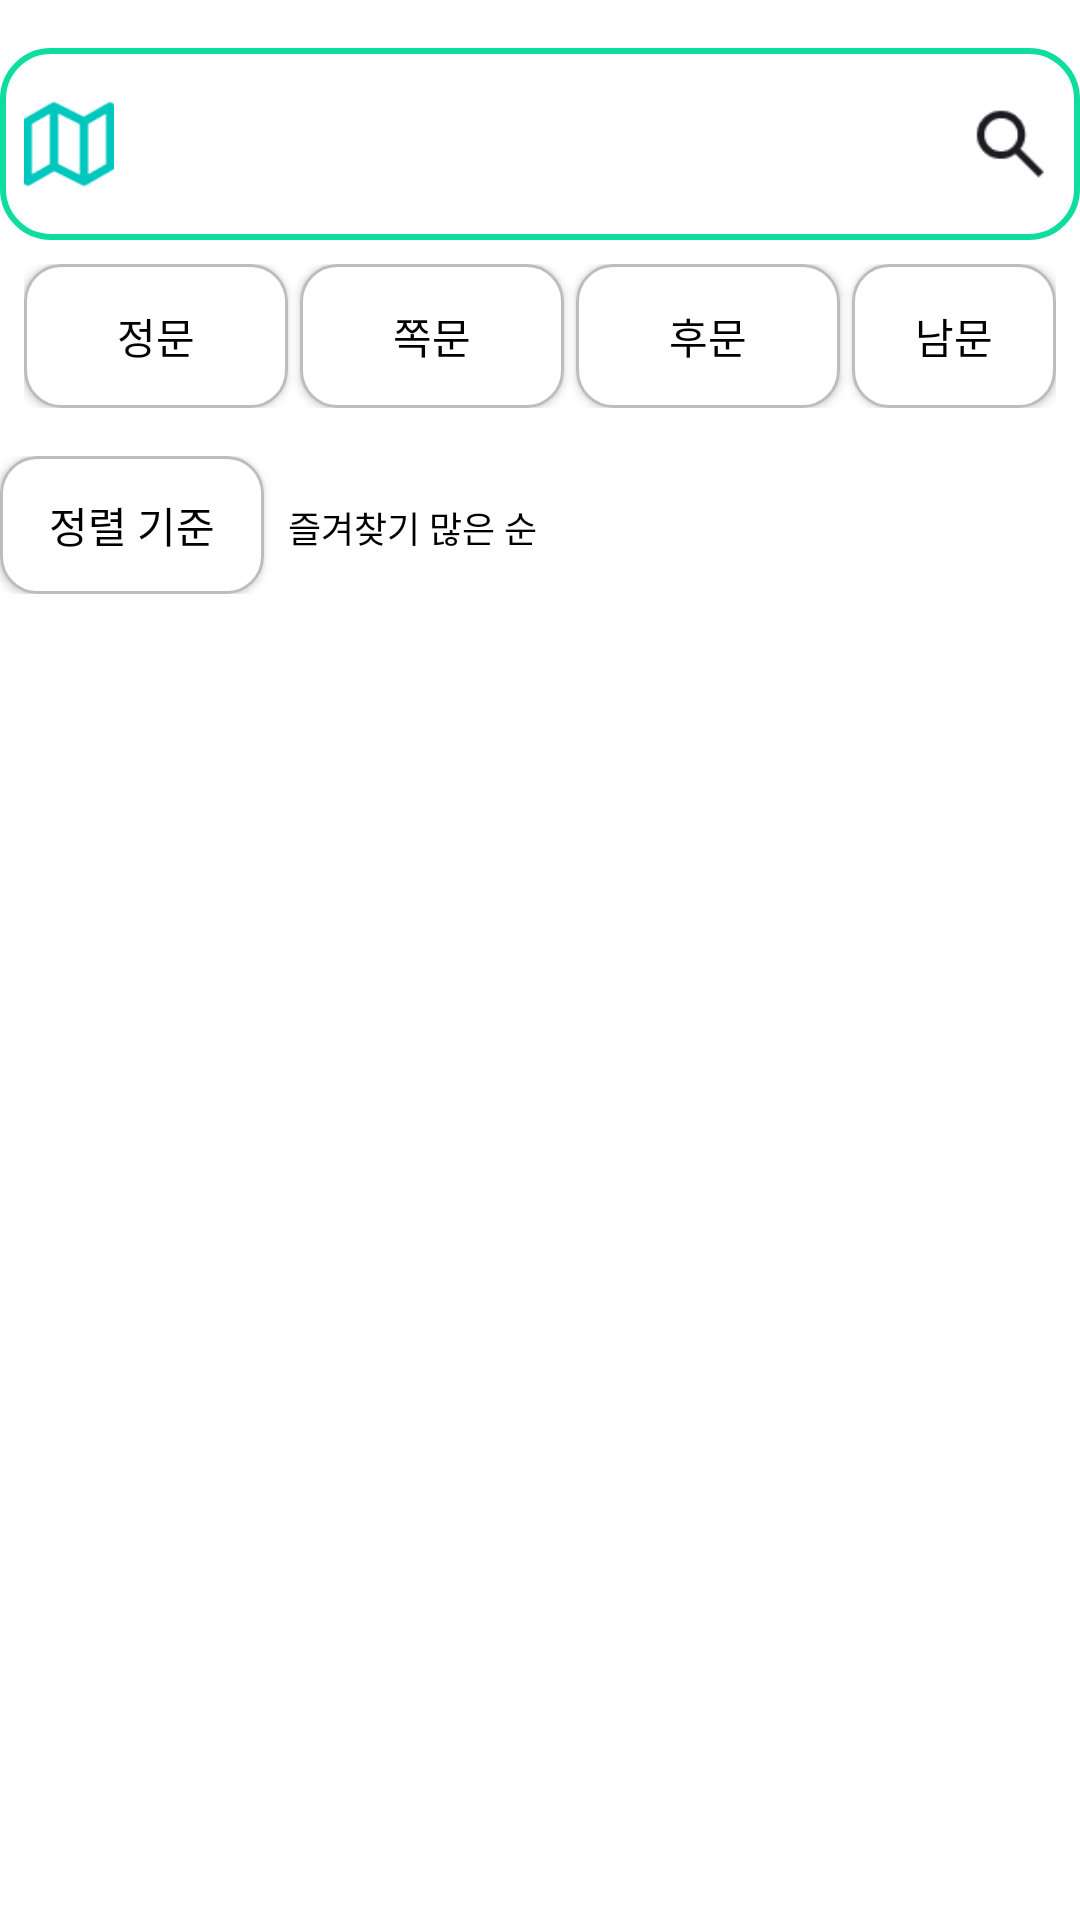

Screen size 1080 × 1920. Icon name, then its center in pixels as point (x, y):
search: point (1010, 144)
지도 아이콘: point (69, 144)
